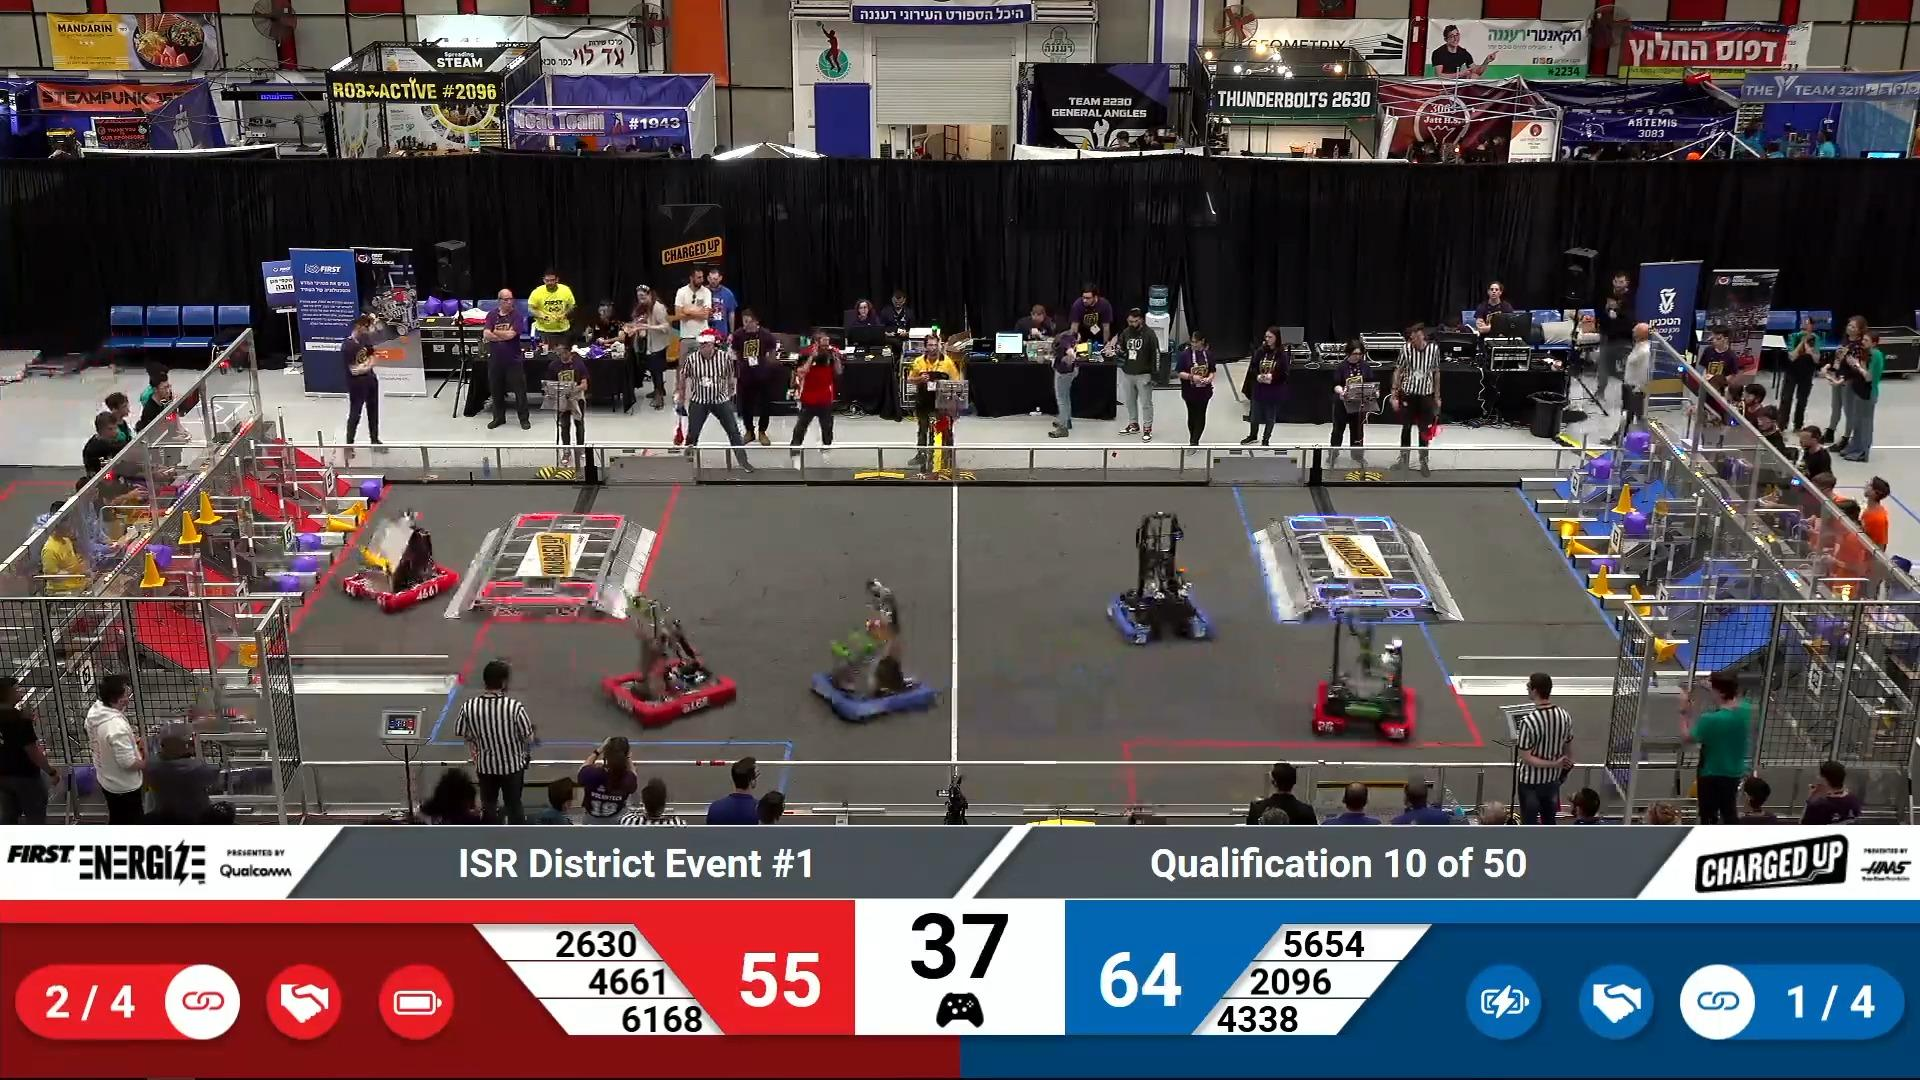robot: (589, 603, 742, 727), (811, 603, 938, 725), (1305, 638, 1420, 744), (340, 518, 463, 615), (161, 694, 278, 790), (1106, 550, 1217, 650)
